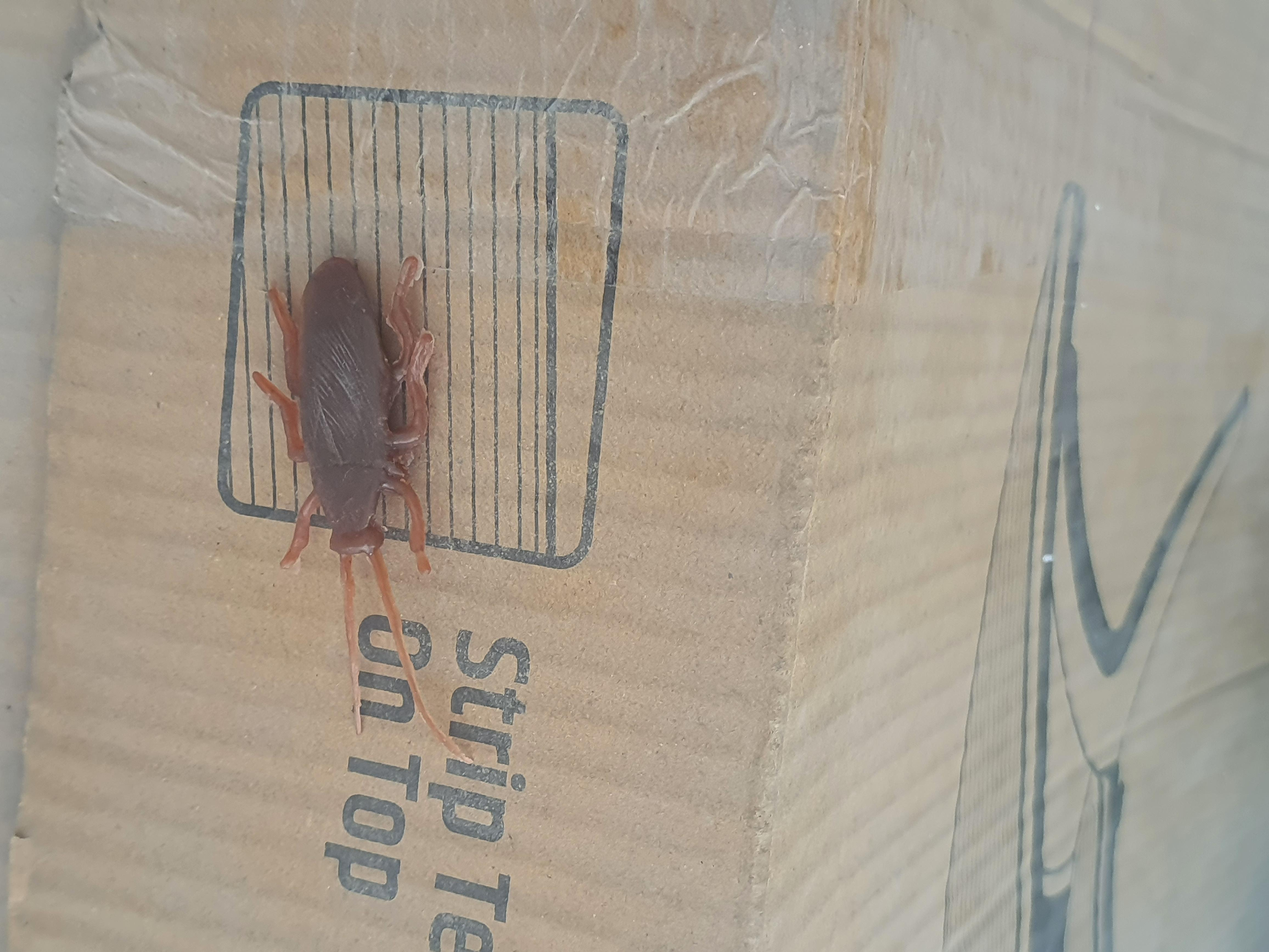cockroach: (250, 178, 942, 348)
